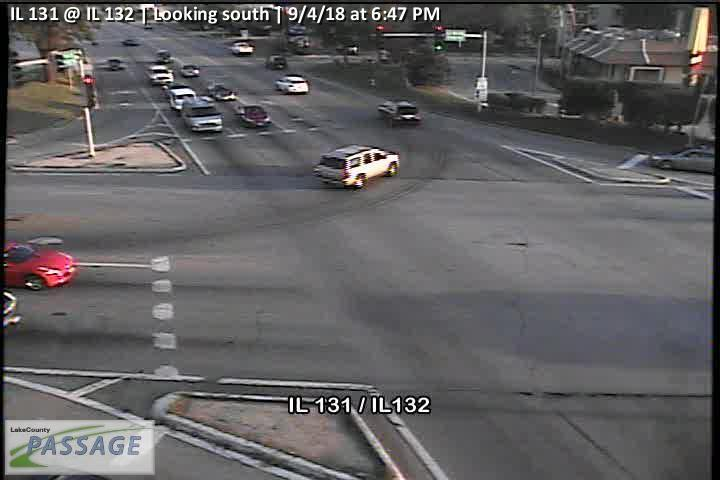SUV: (312, 144, 401, 192), (179, 95, 224, 133)
Sedan: (376, 99, 422, 127), (164, 82, 197, 110), (235, 103, 271, 127), (273, 75, 311, 95), (146, 63, 173, 86)
